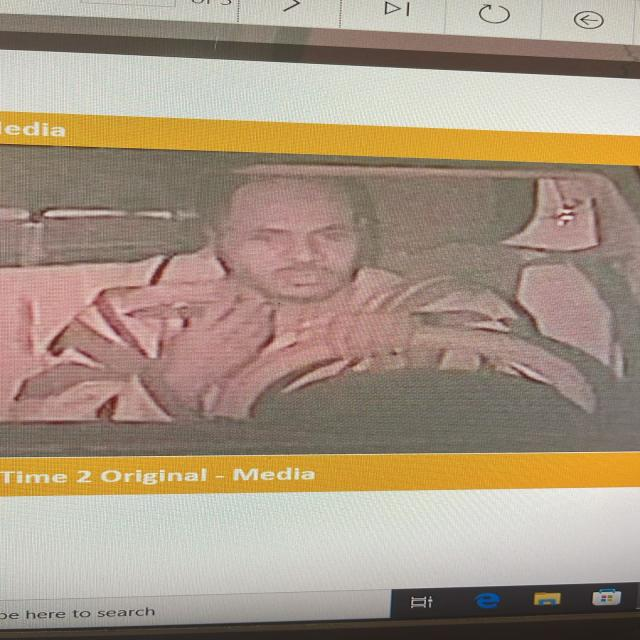person_with_seatbelt: (23, 173, 638, 436)
